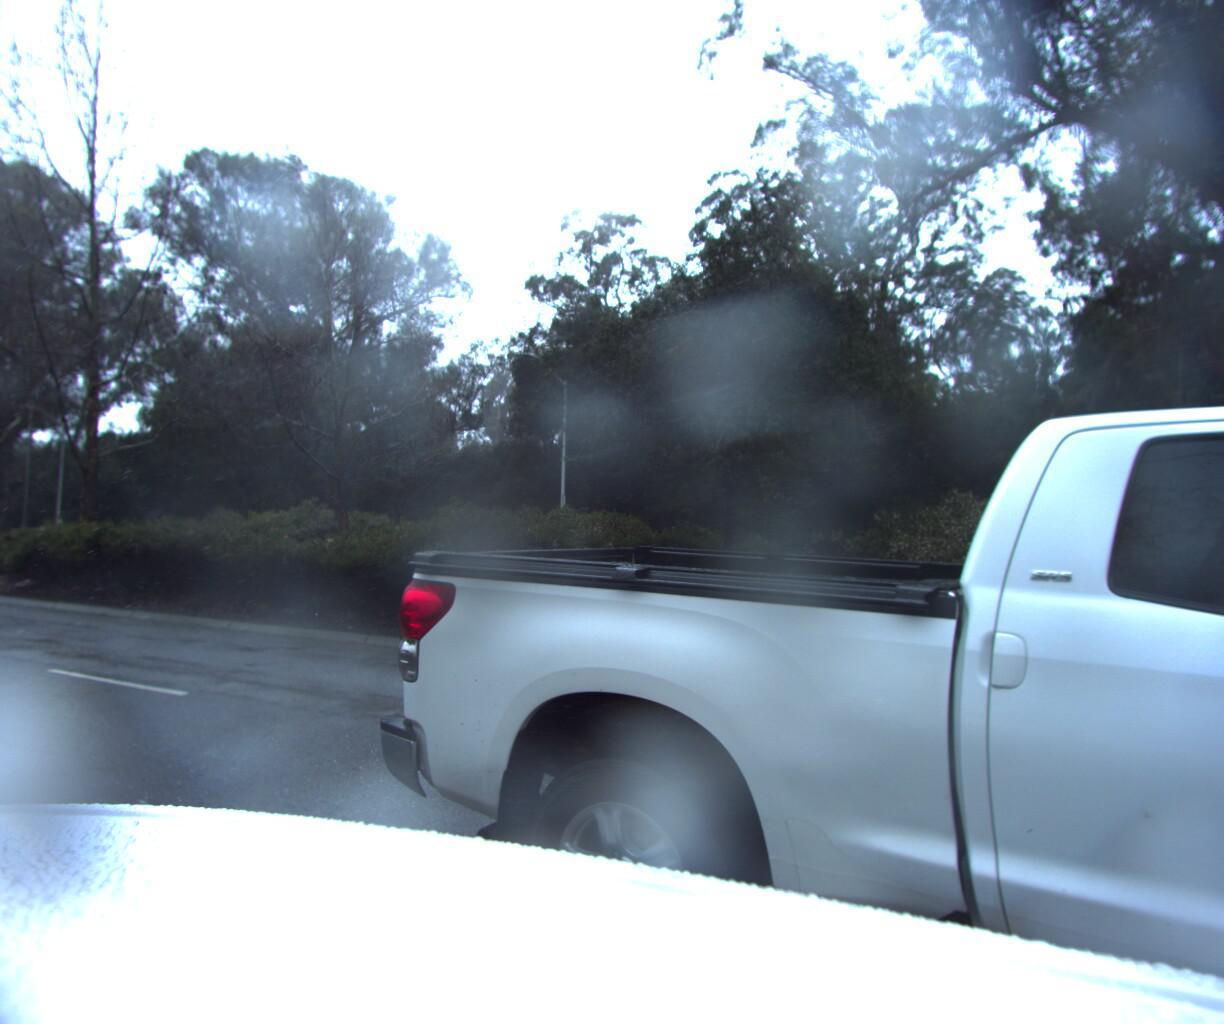car: (327, 0, 1224, 1024), (522, 549, 1181, 805)
